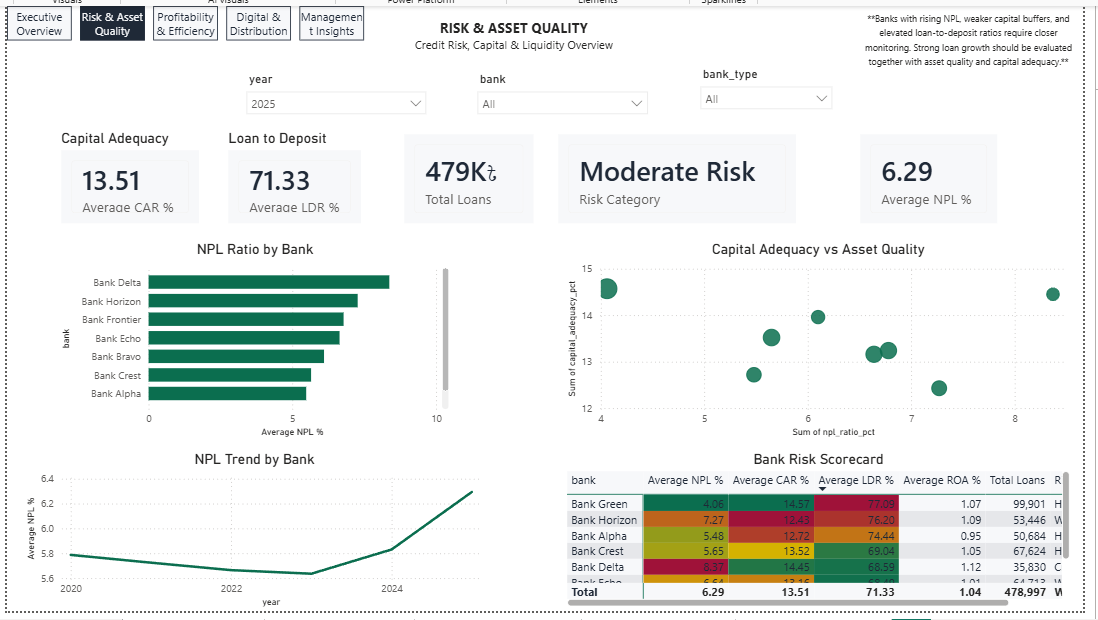

This screenshot's page, from the dashboard's own definition file:
{"tool":"powerbi","page":{"name":"Risk & Asset Quality","canvas":[1280,720],"ordinal":1},"visuals":[{"type":"textbox","box":[443.9,10.7,318.9,57.1],"z":0},{"type":"slicer","fields":{"Values":["bank_financials.year"]},"box":[274.9,73.8,234.4,97.6],"z":1000},{"type":"slicer","fields":{"Values":["bank_financials.bank"]},"box":[549.8,73.8,222.5,60.7],"z":2000},{"type":"slicer","fields":{"Values":["bank_financials.bank_type"]},"box":[815.2,67.8,177.3,79.7],"z":3000},{"type":"cardVisual","title":"Capital Adequacy","fields":{"Data":["bank_financials.Average CAR %"]},"box":[59.5,147.6,174.9,116.6],"z":4000},{"type":"cardVisual","title":"Loan to Deposit","fields":{"Data":["bank_financials.Average LDR %"]},"box":[258.2,147.6,169,116.6],"z":5000},{"type":"cardVisual","fields":{"Data":["bank_financials.Total Loans"]},"box":[467.7,147.6,164.2,116.6],"z":6000},{"type":"cardVisual","fields":{"Data":["bank_financials.Risk Category"]},"box":[651,147.6,294,116.6],"z":7000},{"type":"cardVisual","fields":{"Data":["bank_financials.Average NPL %"]},"box":[1010.4,147.6,173.8,116.6],"z":8000},{"type":"clusteredBarChart","title":"NPL Ratio by Bank","fields":{"Category":["bank_financials.bank"],"Y":["bank_financials.Average NPL %"]},"box":[59.5,279.7,471.3,238],"z":9000},{"type":"scatterChart","title":"Capital Adequacy vs Asset Quality","fields":{"X":["Sum(bank_financials.npl_ratio_pct)"],"Y":["Sum(bank_financials.capital_adequacy_pct)"],"Category":["bank_financials.bank"],"Size":["Sum(bank_financials.loans_crore)"]},"box":[661.7,279.7,608.1,238],"z":10000},{"type":"lineChart","title":"NPL Trend by Bank","fields":{"Category":["bank_financials.year"],"Y":["bank_financials.Average NPL %"]},"box":[17.9,529.6,553.4,190.4],"z":11000},{"type":"pivotTable","title":"Bank Risk Scorecard","fields":{"Rows":["bank_financials.bank"],"Values":["bank_financials.Average NPL %","bank_financials.Average CAR %","bank_financials.Average LDR %","bank_financials.Average ROA %","bank_financials.Total Loans","bank_financials.Risk Status"]},"box":[662,530,608,190],"z":12000},{"type":"textbox","box":[1008,0,272.5,82.1],"z":13000},{"type":"pageNavigator","box":[0,0,427.2,41.7],"z":13001}]}

Visuals, with their boxes on the page's 1280x720 design canvas (x1, y1, x2, y2). These are canvas units, not pixel positions in the 1098x620 screenshot, which may show the page scaled, cropped or inside an application window:
textbox: left=444, top=11, right=763, bottom=68
slicer - bank_financials.year: left=275, top=74, right=509, bottom=171
slicer - bank_financials.bank: left=550, top=74, right=772, bottom=134
slicer - bank_financials.bank_type: left=815, top=68, right=992, bottom=148
"Capital Adequacy" cardVisual: left=60, top=148, right=234, bottom=264
"Loan to Deposit" cardVisual: left=258, top=148, right=427, bottom=264
cardVisual - bank_financials.Total Loans: left=468, top=148, right=632, bottom=264
cardVisual - bank_financials.Risk Category: left=651, top=148, right=945, bottom=264
cardVisual - bank_financials.Average NPL %: left=1010, top=148, right=1184, bottom=264
"NPL Ratio by Bank" clusteredBarChart: left=60, top=280, right=531, bottom=518
"Capital Adequacy vs Asset Quality" scatterChart: left=662, top=280, right=1270, bottom=518
"NPL Trend by Bank" lineChart: left=18, top=530, right=571, bottom=720
"Bank Risk Scorecard" pivotTable: left=662, top=530, right=1270, bottom=720
textbox: left=1008, top=0, right=1280, bottom=82
pageNavigator: left=0, top=0, right=427, bottom=42
